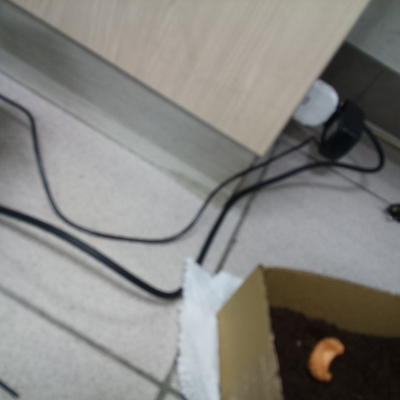eggs: (303, 334, 348, 384)
